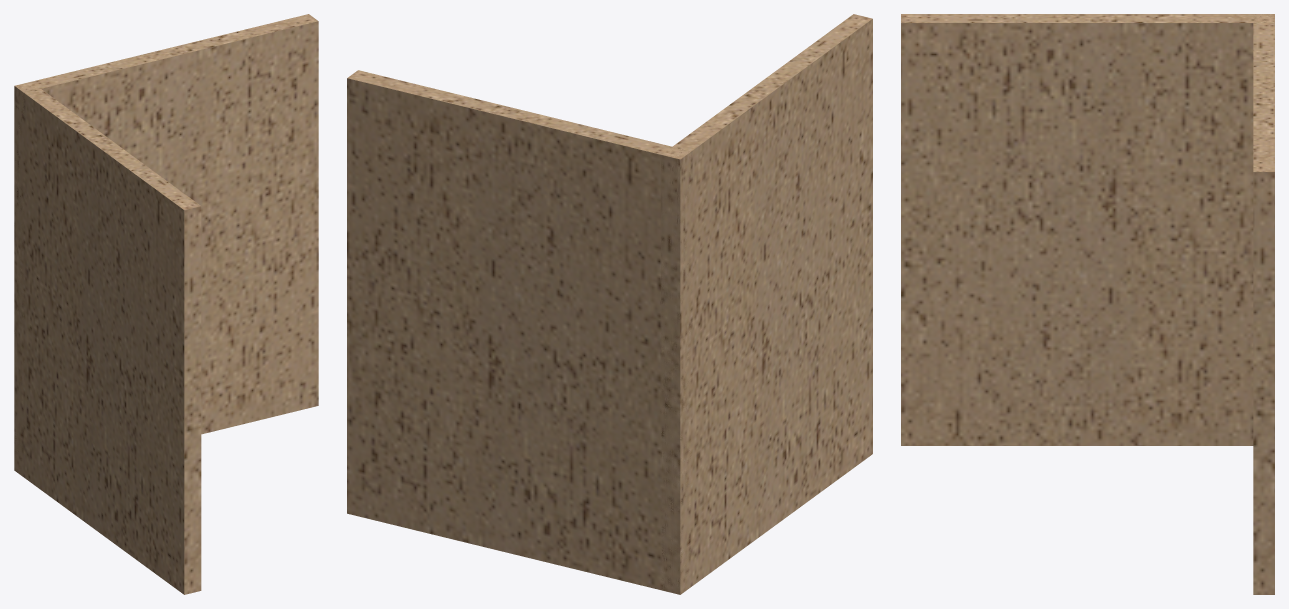
File: corner.fbx
3 renders of one model, left to right at view 1: azimuth 30°, elevation 25°; view 2: azimuth 150°, elevation 25°; view 3: azimuth 270°, elevation 25°, orthographic. The views are drawn at different scales.
Parts seen in each view (by area): view 1: corner1; view 2: corner1; view 3: corner1.
Part boxes in pixels (x1,y1,x2,y2): corner1: (14, 14, 318, 594); corner1: (347, 14, 872, 594); corner1: (901, 14, 1274, 594).
Size of the model in its own units: 400 by 499 by 400.
